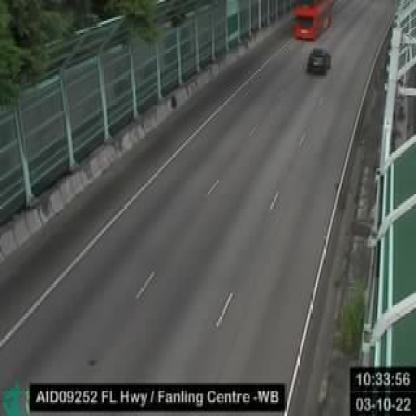Car: (306, 47, 330, 73)
